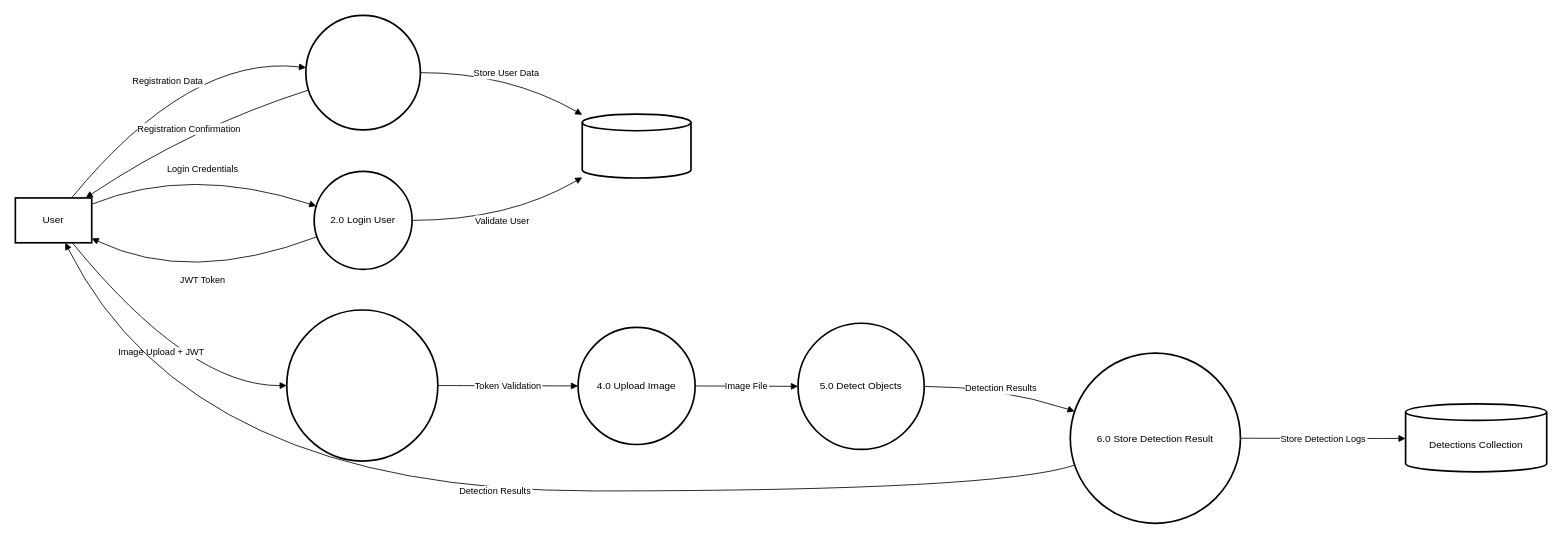
Some shapes in this 1561 by 538 pixel diagram are drawn without their labels. The box of each missing label's shape, as (x1, y1, x2, y2) in pixels:
1.0 Register User: (305, 14, 421, 130)
3.0 Authenticate Token: (286, 309, 438, 461)
Users Collection: (581, 113, 691, 178)
